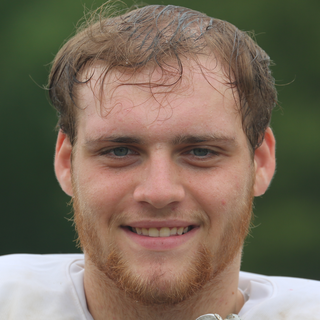eye: (176, 140, 227, 165), (93, 140, 145, 164)
